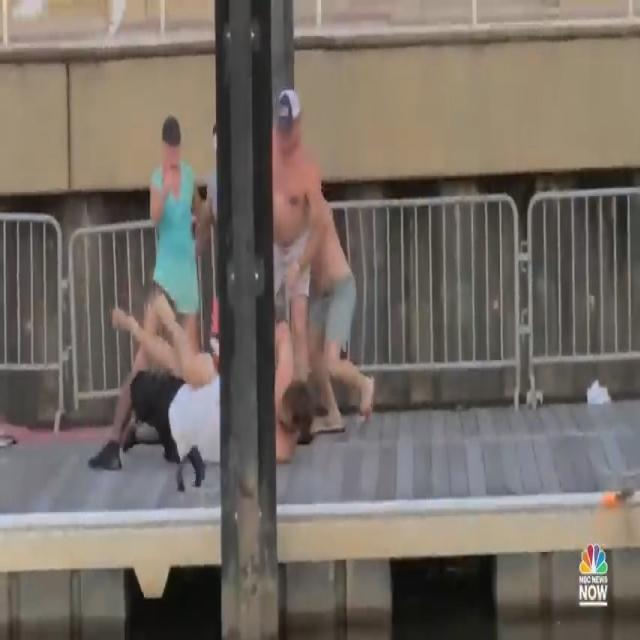fight: (80, 88, 383, 486)
